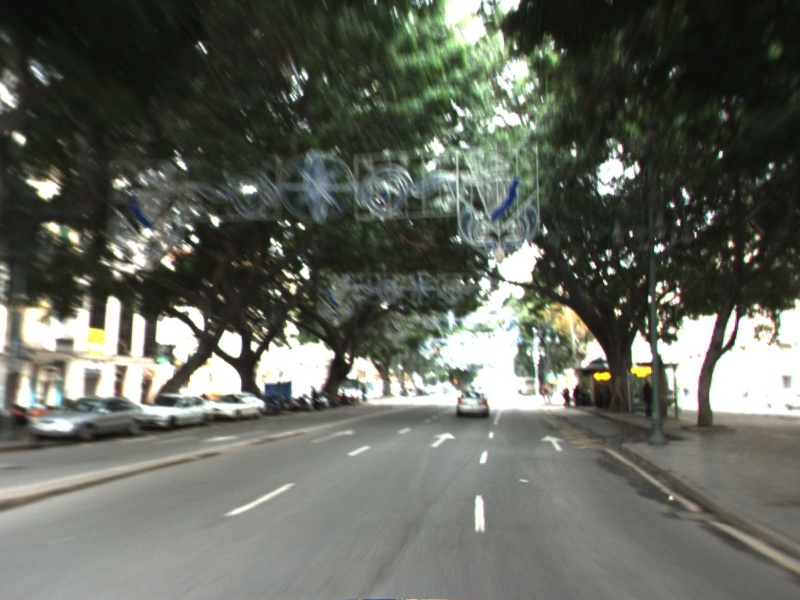STRAIGHT: (308, 426, 357, 445), (428, 430, 459, 449), (539, 433, 568, 453)
